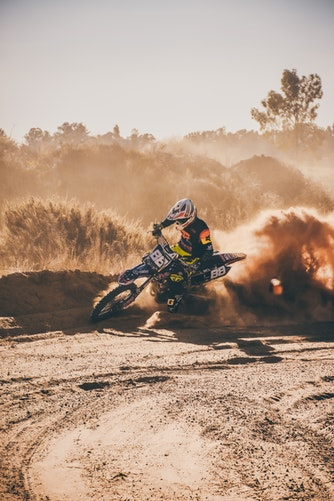helmet: (164, 200, 196, 227)
